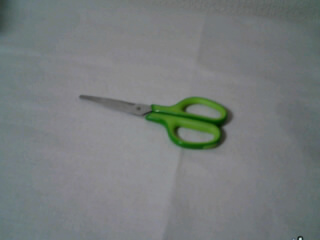003_classes: (77, 85, 236, 158)
